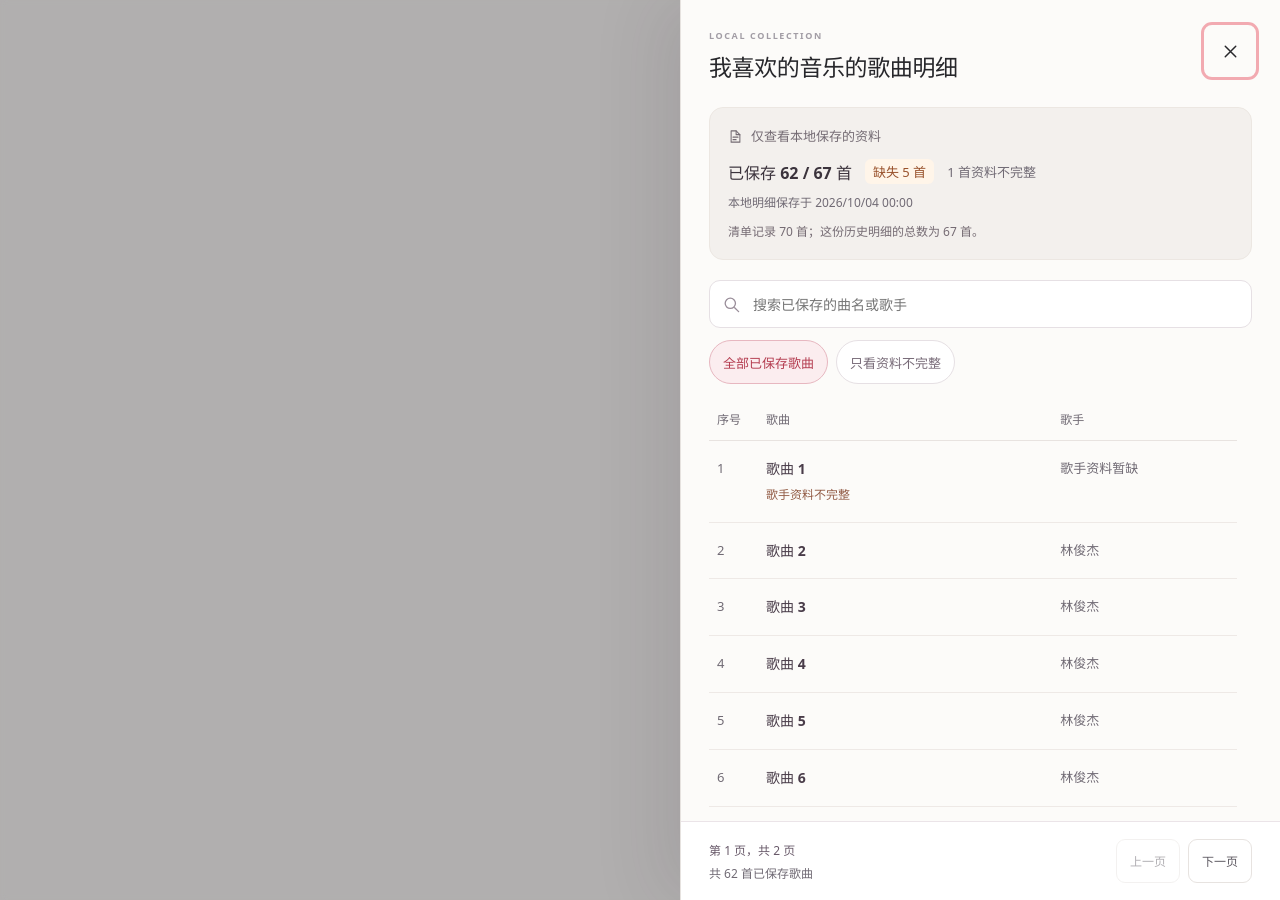
Test: saved playlist details drawer › debounces search, retains matched original positions and resets pagination
The width and height of the screenshot is (1280, 900).
Click the button "下一页" at (1220, 861), box [1188, 839, 1252, 883]
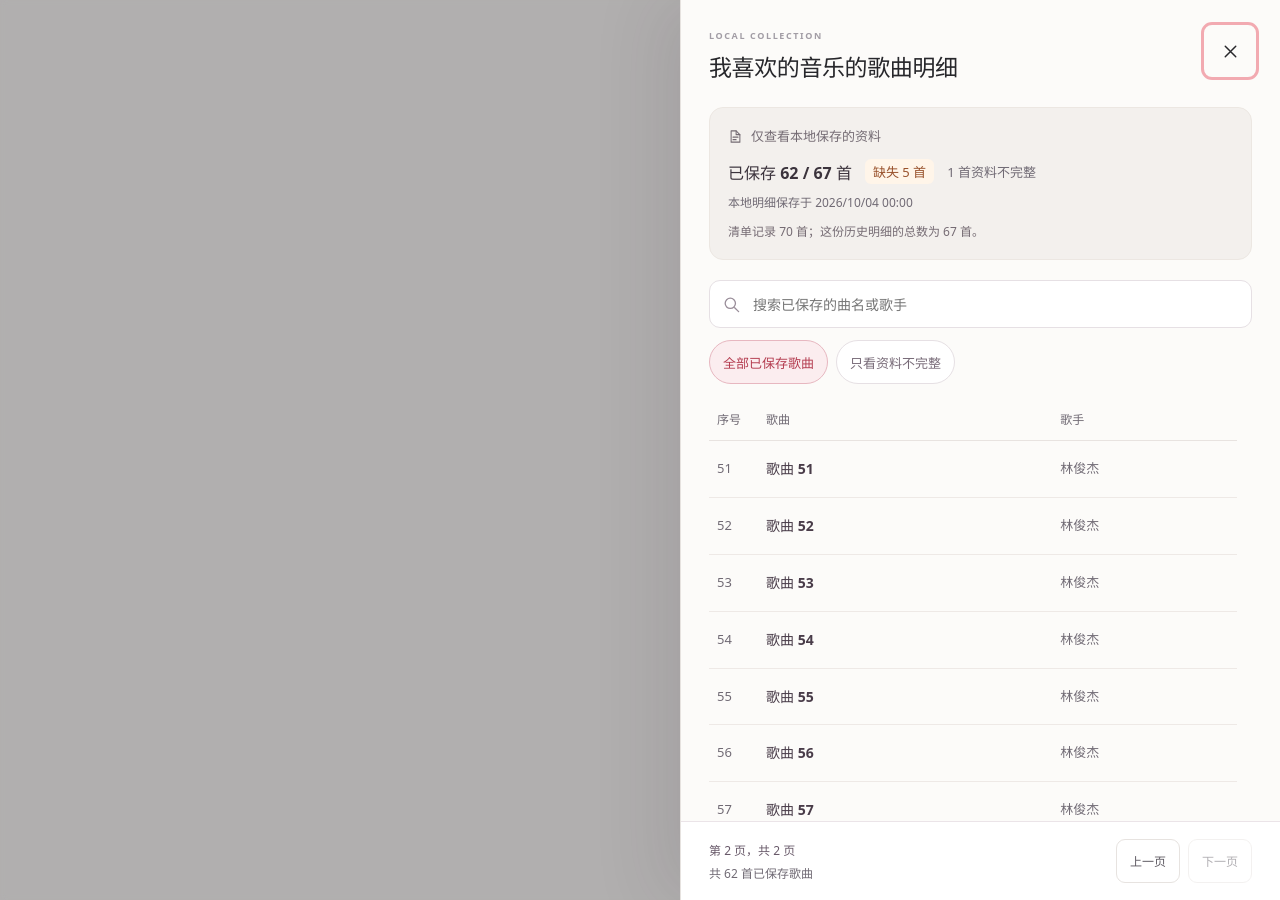
Expected: the text "歌曲 51" is shown, [766, 459, 814, 478]
Type " summer " into the field named "搜索曲名或歌手" at (995, 304), box [751, 294, 1239, 315]
Wait 200 ms
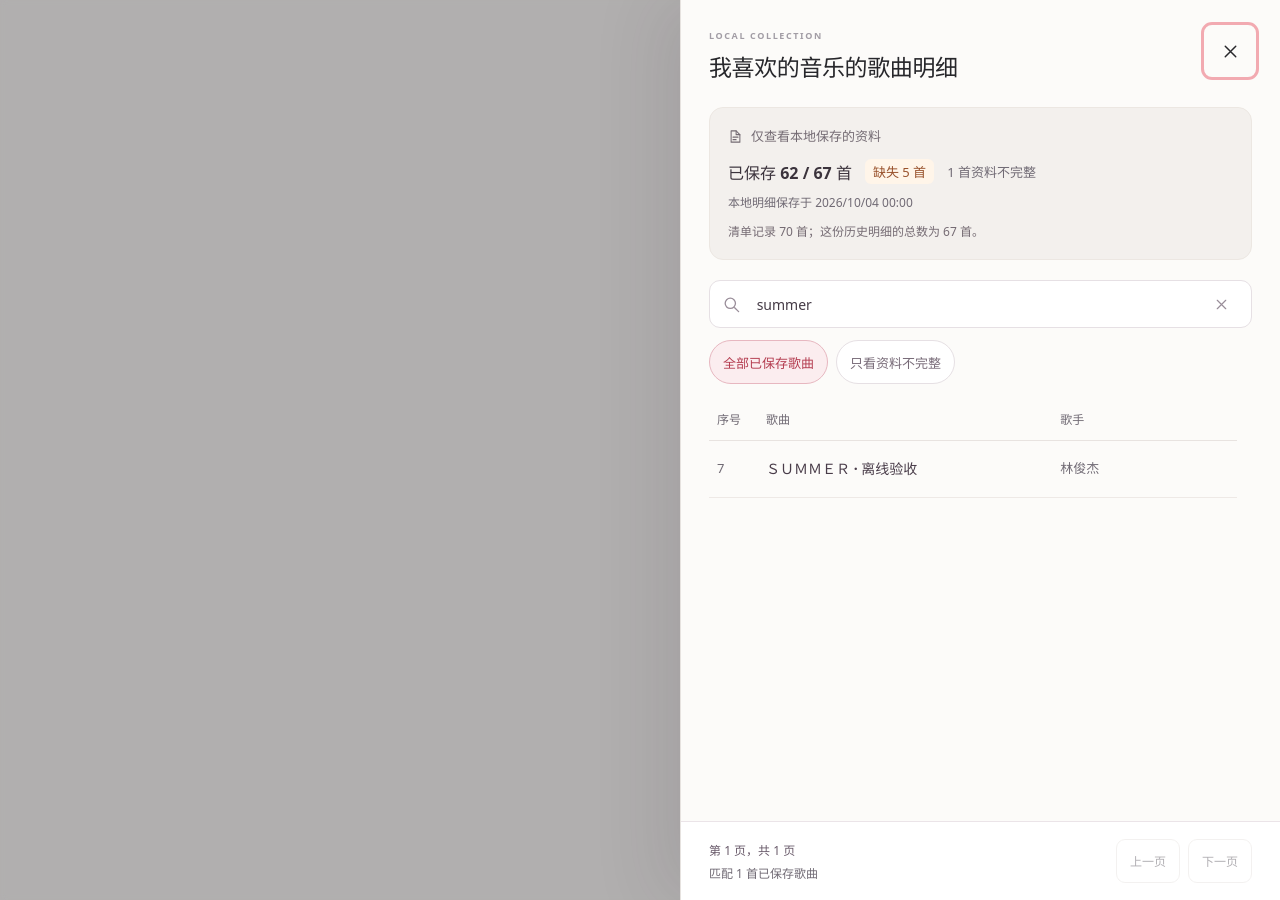
Expected: the cell "7" is shown, [709, 441, 758, 498]
Expected: the number of rows is 2, [709, 398, 1237, 441]; [709, 441, 1237, 498]
Expected: the text "第 1 页，共 1 页" is shown, [709, 842, 795, 858]
